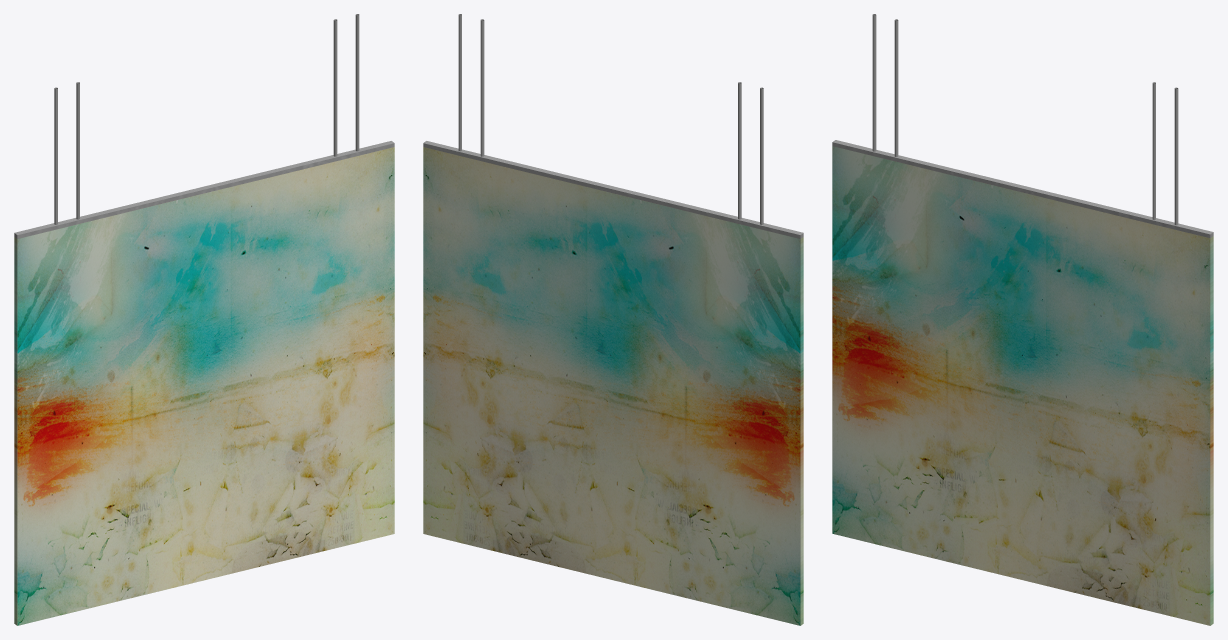
File: Picture5.fbx
3 views of the same model, side by side, from view 1: azimuth 30°, elevation 25°; view 2: azimuth 150°, elevation 25°; view 3: azimuth 330°, elevation 25° (orthographic).
Parts seen in each view (by area): view 1: Empty_Mesh; view 2: Empty_Mesh; view 3: Empty_Mesh.
Boxes of the visible parts, x1,y1,x2,y2 form: Empty_Mesh: (14, 14, 394, 625); Empty_Mesh: (423, 14, 803, 625); Empty_Mesh: (832, 14, 1213, 625).
Bounding box in the file's own units: 243 × 324 × 3.64.
